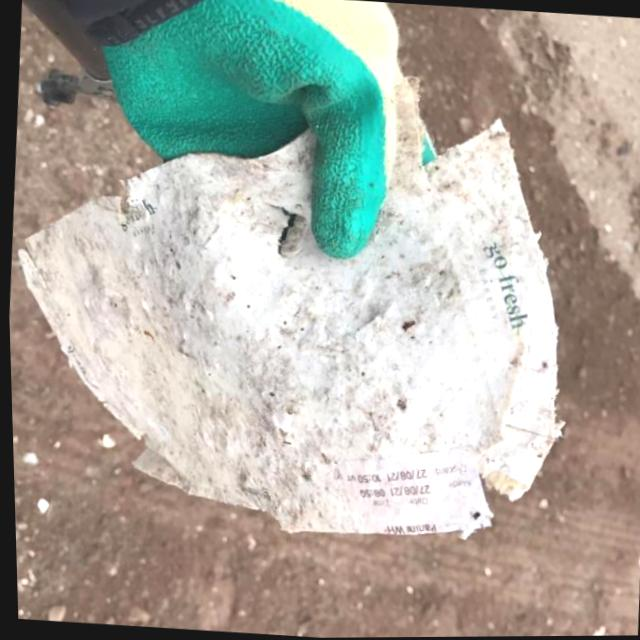Paper: (1, 48, 592, 556)
